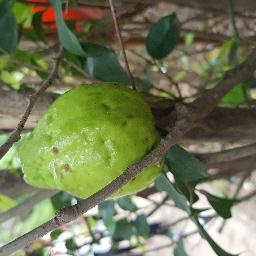Good_guava: (3, 74, 160, 204)
